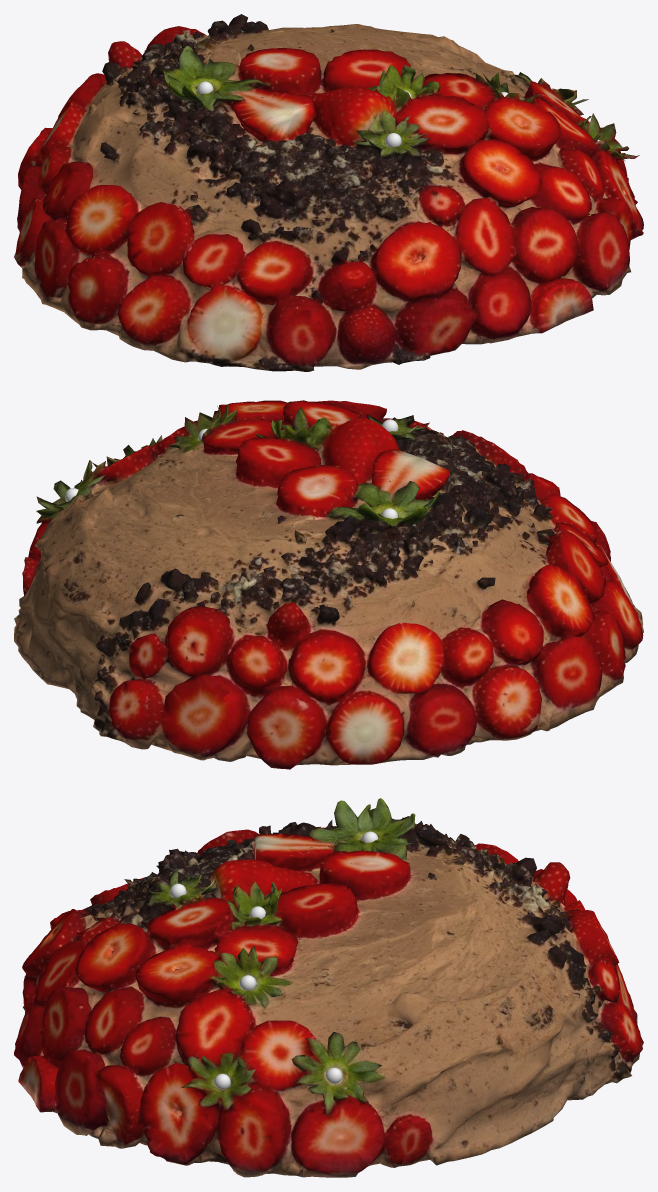
Rendered from strawberry_chocolate_cake.glb.
3 views of the same model, one above another, from view 1: azimuth 30°, elevation 25°; view 2: azimuth 150°, elevation 25°; view 3: azimuth 270°, elevation 25° (orthographic). The views are drawn at different scales.
Parts seen in each view (by area): view 1: strawberry_chocolate_cake; view 2: strawberry_chocolate_cake; view 3: strawberry_chocolate_cake.
Boxes of the visible parts, left/top/right/bottom form: strawberry_chocolate_cake: left=14, top=14, right=643, bottom=371; strawberry_chocolate_cake: left=14, top=400, right=643, bottom=769; strawberry_chocolate_cake: left=14, top=798, right=643, bottom=1177.
Size of the model in its own units: 0.2443 by 0.0792 by 0.2403.
Materials: 1 (1 with a texture image).
